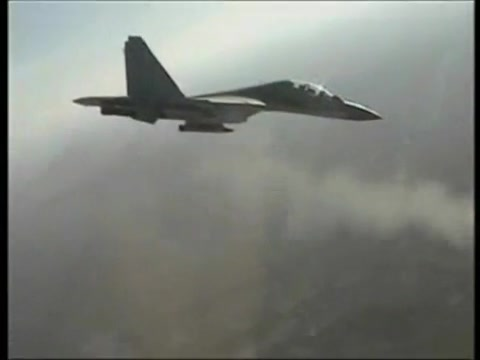aeroplane: (71, 35, 386, 136)
